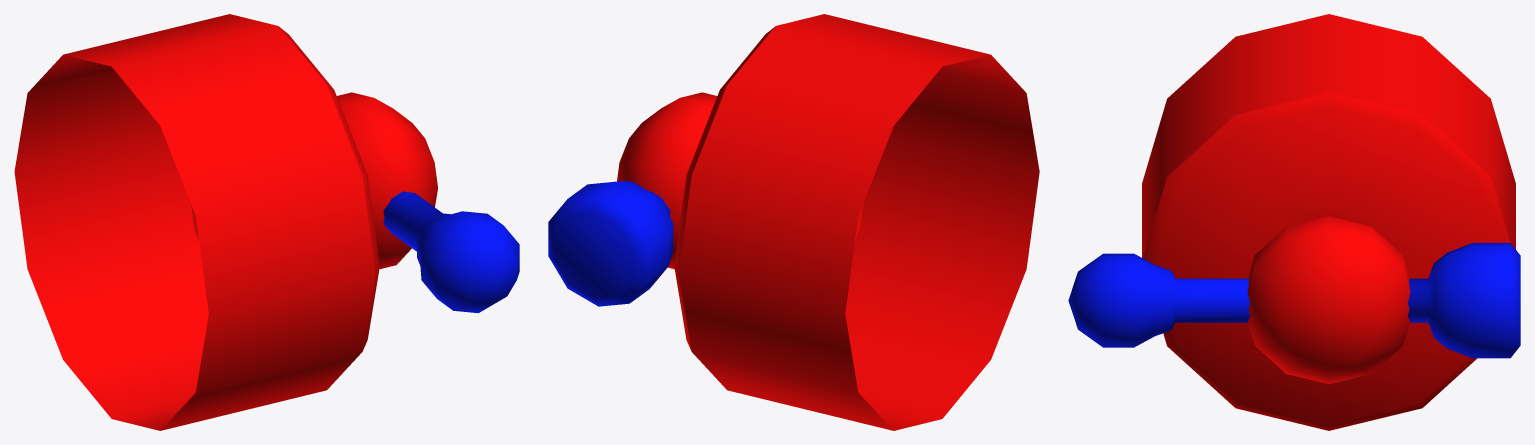
File: Shelf_WallMount.fbx
3 renders of one model, left to right at view 1: azimuth 30°, elevation 25°; view 2: azimuth 150°, elevation 25°; view 3: azimuth 270°, elevation 25°, orthographic. The views are drawn at different scales.
Visible parts, largest first — view 1: Shelf_WallMount; view 2: Shelf_WallMount; view 3: Shelf_WallMount.
Part boxes in pixels (bbox=[...]): Shelf_WallMount: bbox=[14, 14, 519, 430]; Shelf_WallMount: bbox=[548, 14, 1039, 430]; Shelf_WallMount: bbox=[1068, 14, 1520, 430].
Size of the model in its own units: 12.18 by 13.29 by 16.08.
